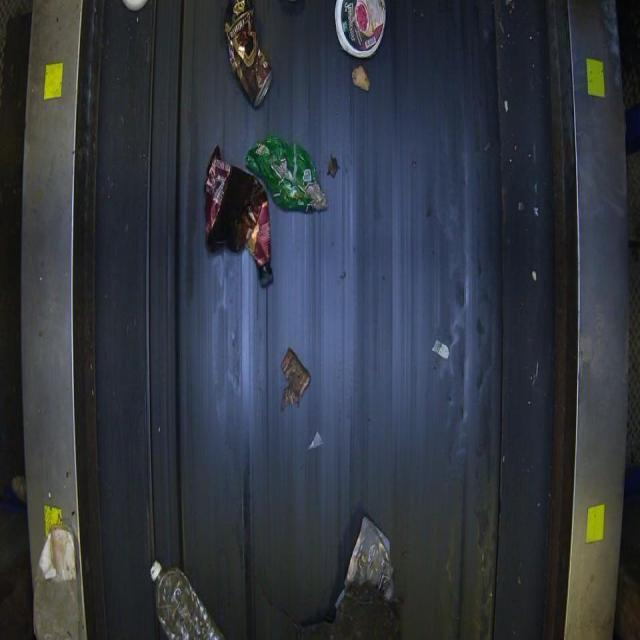other-trash: (244, 134, 328, 214)
trashbin: (10, 0, 634, 639)
